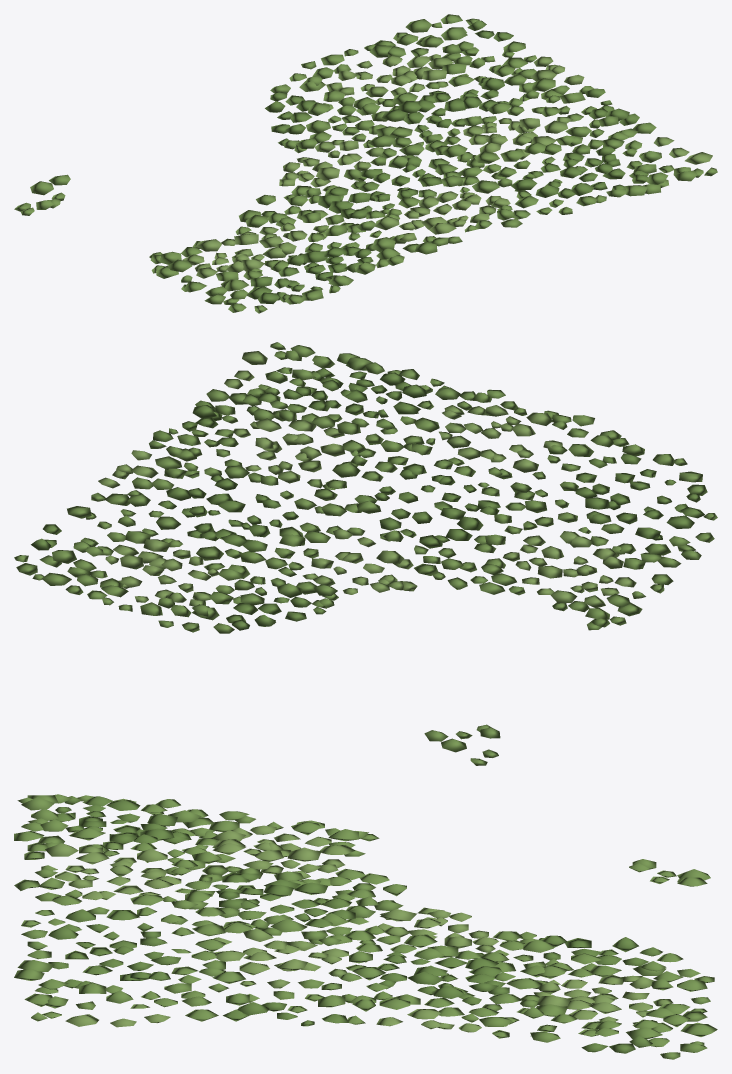
The model's file is canopy-1-5-2.glb.
3 views of the same model, one above another, from view 1: azimuth 30°, elevation 25°; view 2: azimuth 150°, elevation 25°; view 3: azimuth 270°, elevation 25° (orthographic). The views are drawn at different scales.
Size of the model in its own units: 522 by 130 by 515.
1 material, 1 textured.
